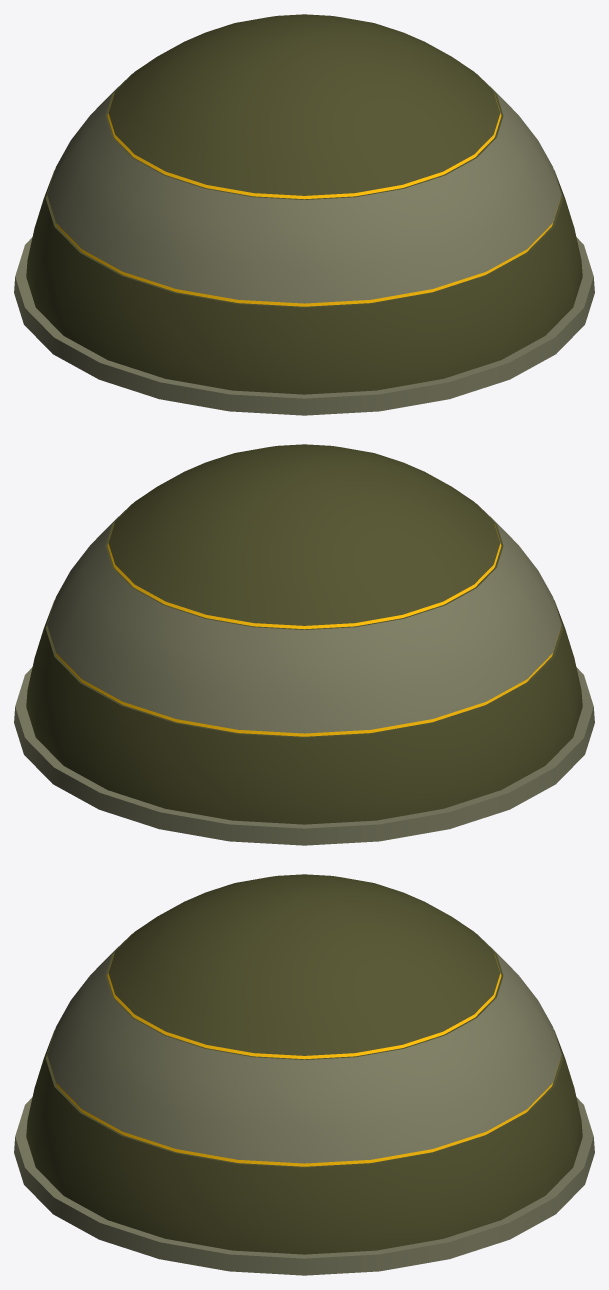
Rendered from Bot_Bomb.fbx.
3 views of the same model, one above another, from view 1: azimuth 30°, elevation 25°; view 2: azimuth 150°, elevation 25°; view 3: azimuth 270°, elevation 25° (orthographic).
Visible parts, largest first — view 1: Bomb; view 2: Bomb; view 3: Bomb.
Part boxes in pixels (box(x1,y1,x2,y2)): Bomb: box(14, 14, 594, 415); Bomb: box(14, 444, 594, 845); Bomb: box(14, 874, 594, 1275).
Size of the model in its own units: 3599 by 1731 by 3599.
